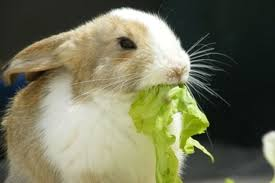bunny: (1, 1, 218, 183)
